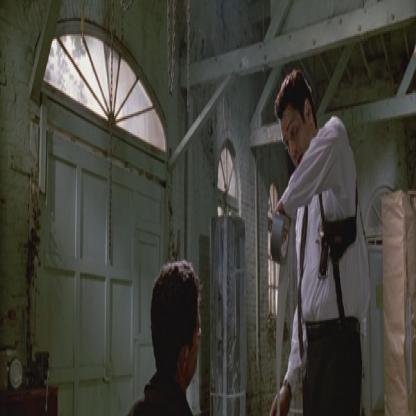Guns: (314, 209, 357, 285)
